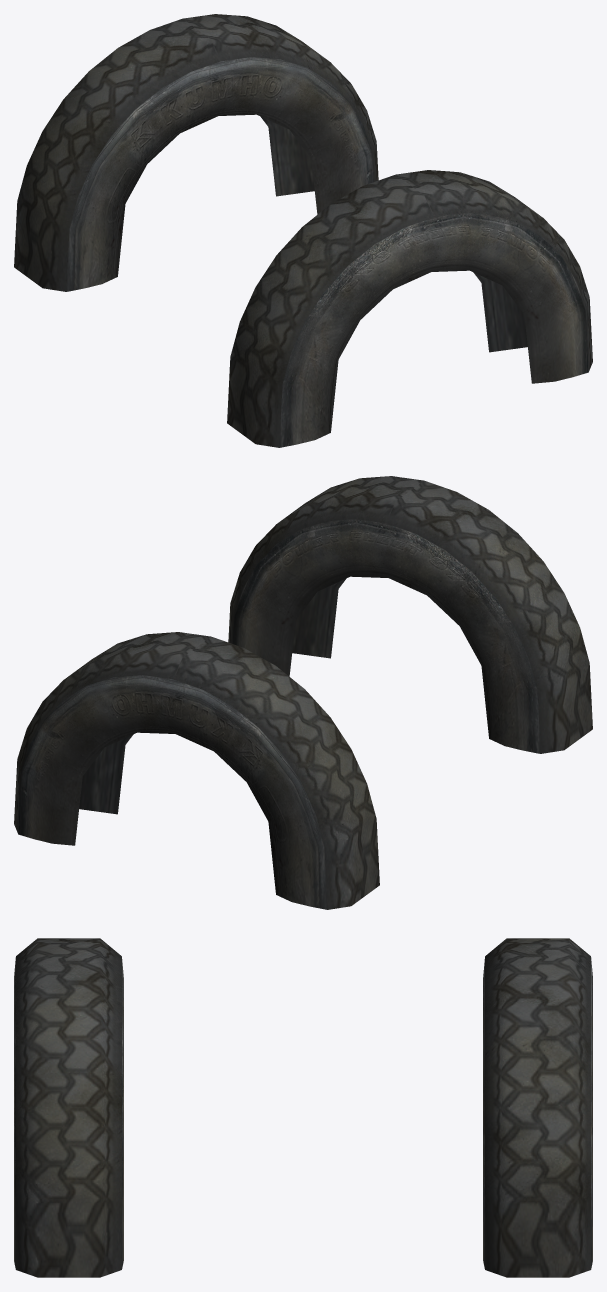
The model's file is half_tire.FBX.
The picture shows the model from 3 angles, top to bottom: view 1: azimuth 30°, elevation 25°; view 2: azimuth 150°, elevation 25°; view 3: azimuth 270°, elevation 25°; orthographic projection. The views are drawn at different scales.
Parts seen in each view (by area): view 1: half_tire; view 2: half_tire; view 3: half_tire.
Boxes of the visible parts, box(x1,y1,x2,y2) form: half_tire: box(14, 14, 592, 447); half_tire: box(14, 476, 592, 909); half_tire: box(14, 938, 592, 1277).
Bounding box in the file's own units: 0.583 × 0.3429 × 0.7871.
